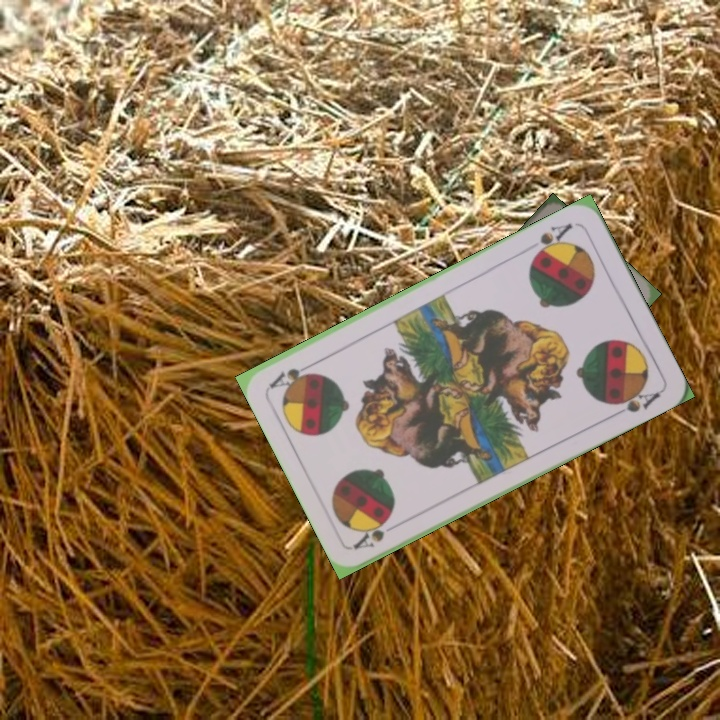SA: (528, 219, 575, 261), (349, 514, 394, 552)
